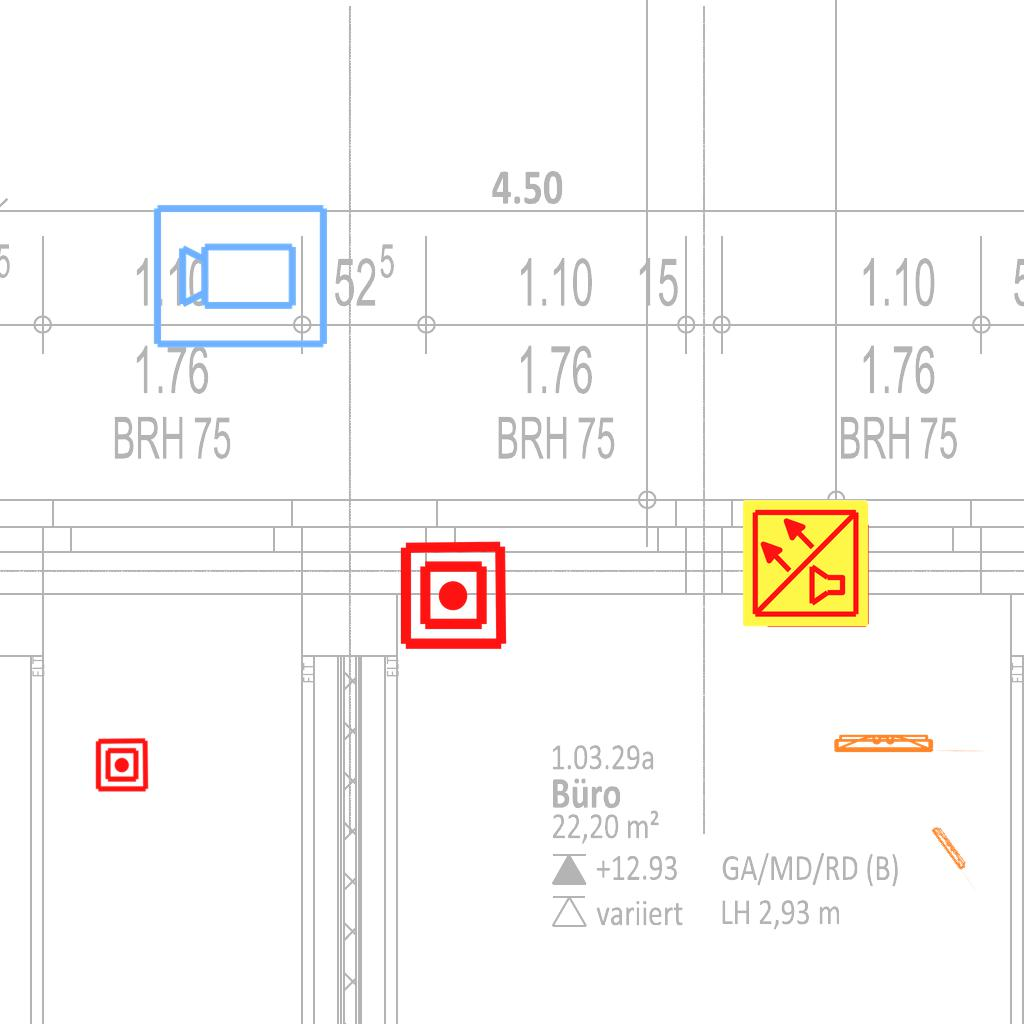KFO_Kamera_mit_Festobjektiv: (150, 198, 332, 352)
NAM-Nichtautomatischer_Melder: (397, 539, 510, 652), (94, 737, 150, 793)
OKW_Multisensormelder_(Kombination_optischer_Rauch-Kahlenmonoxid_Waerme-Melder): (740, 497, 872, 629)
Sicherheitsleuchte_Wandeinbau: (928, 822, 986, 893), (829, 730, 988, 755)
